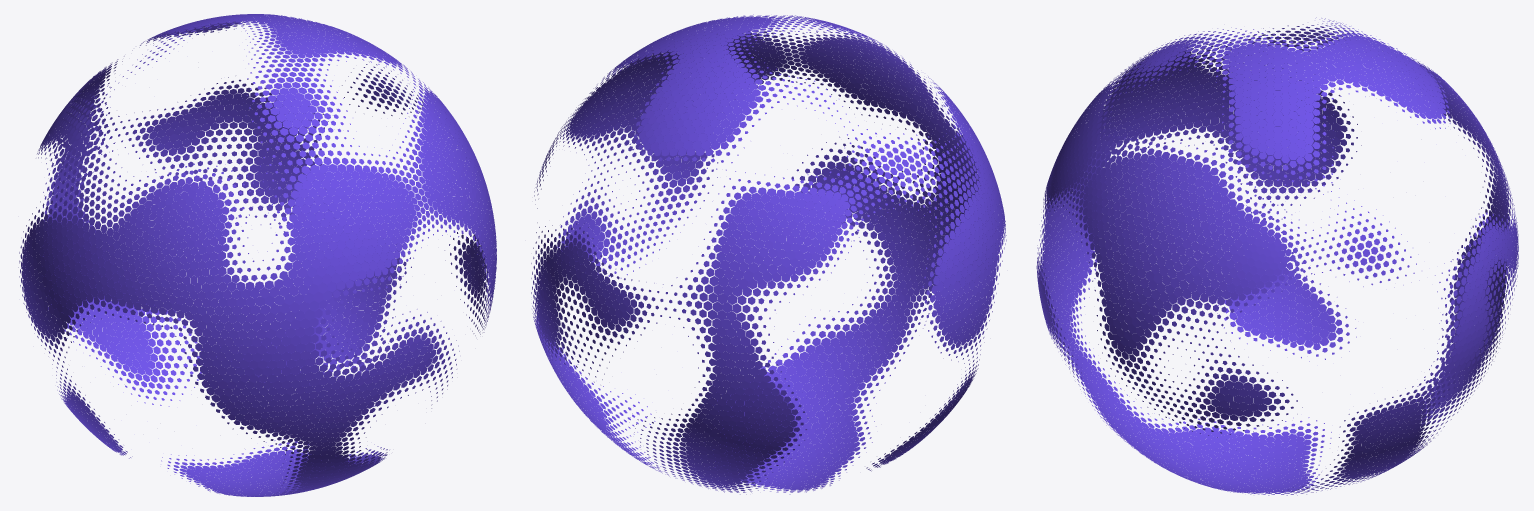
3 views of the same model, side by side, from view 1: azimuth 30°, elevation 25°; view 2: azimuth 150°, elevation 25°; view 3: azimuth 270°, elevation 25° (orthographic).
Visible parts, largest first — view 1: Cube; view 2: Cube; view 3: Cube.
Part boxes in pixels (x1=…): Cube: x1=18, y1=14, x2=496, y2=496; Cube: x1=531, y1=14, x2=1006, y2=494; Cube: x1=1036, y1=17, x2=1518, y2=495.
Bounding box in the file's own units: 2 × 2 × 2.
